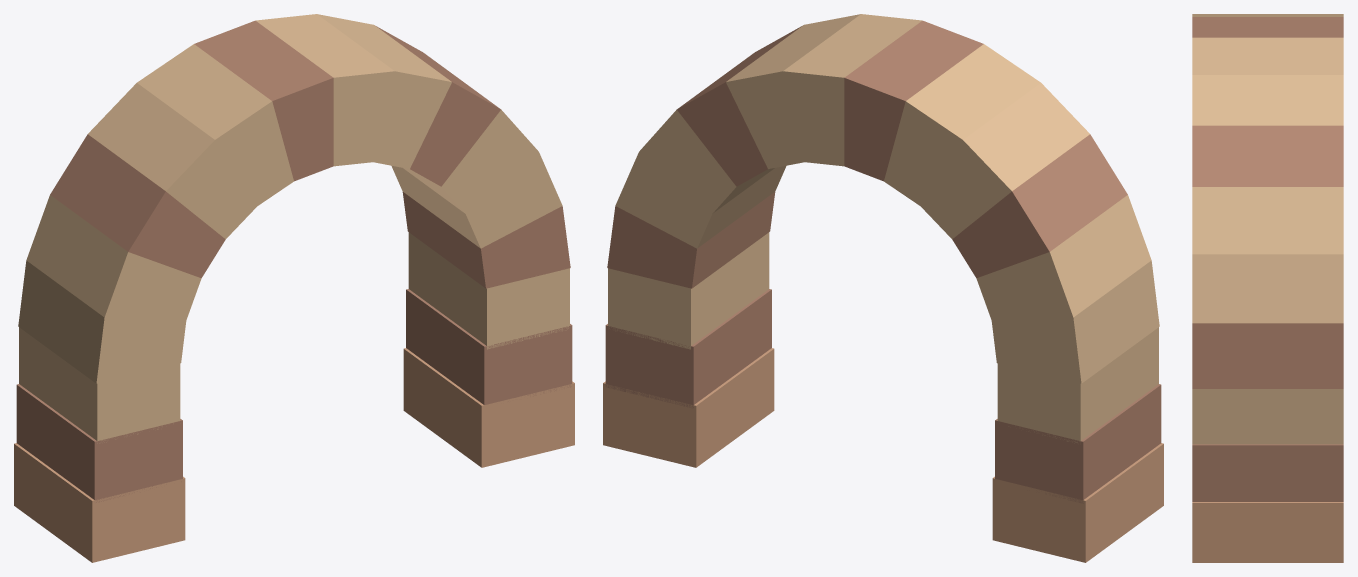
3 renders of one model, left to right at view 1: azimuth 30°, elevation 25°; view 2: azimuth 150°, elevation 25°; view 3: azimuth 270°, elevation 25°, orthographic. The views are drawn at different scales.
Size of the model in its own units: 28.5 by 24.05 by 8.
